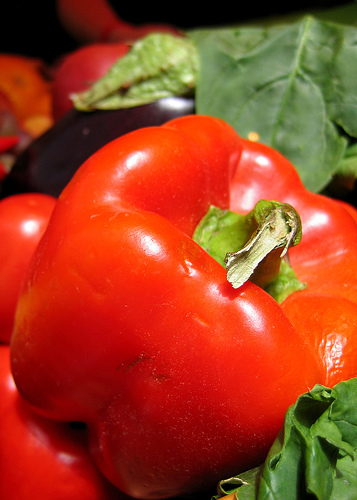capsicum: (10, 112, 355, 498)
